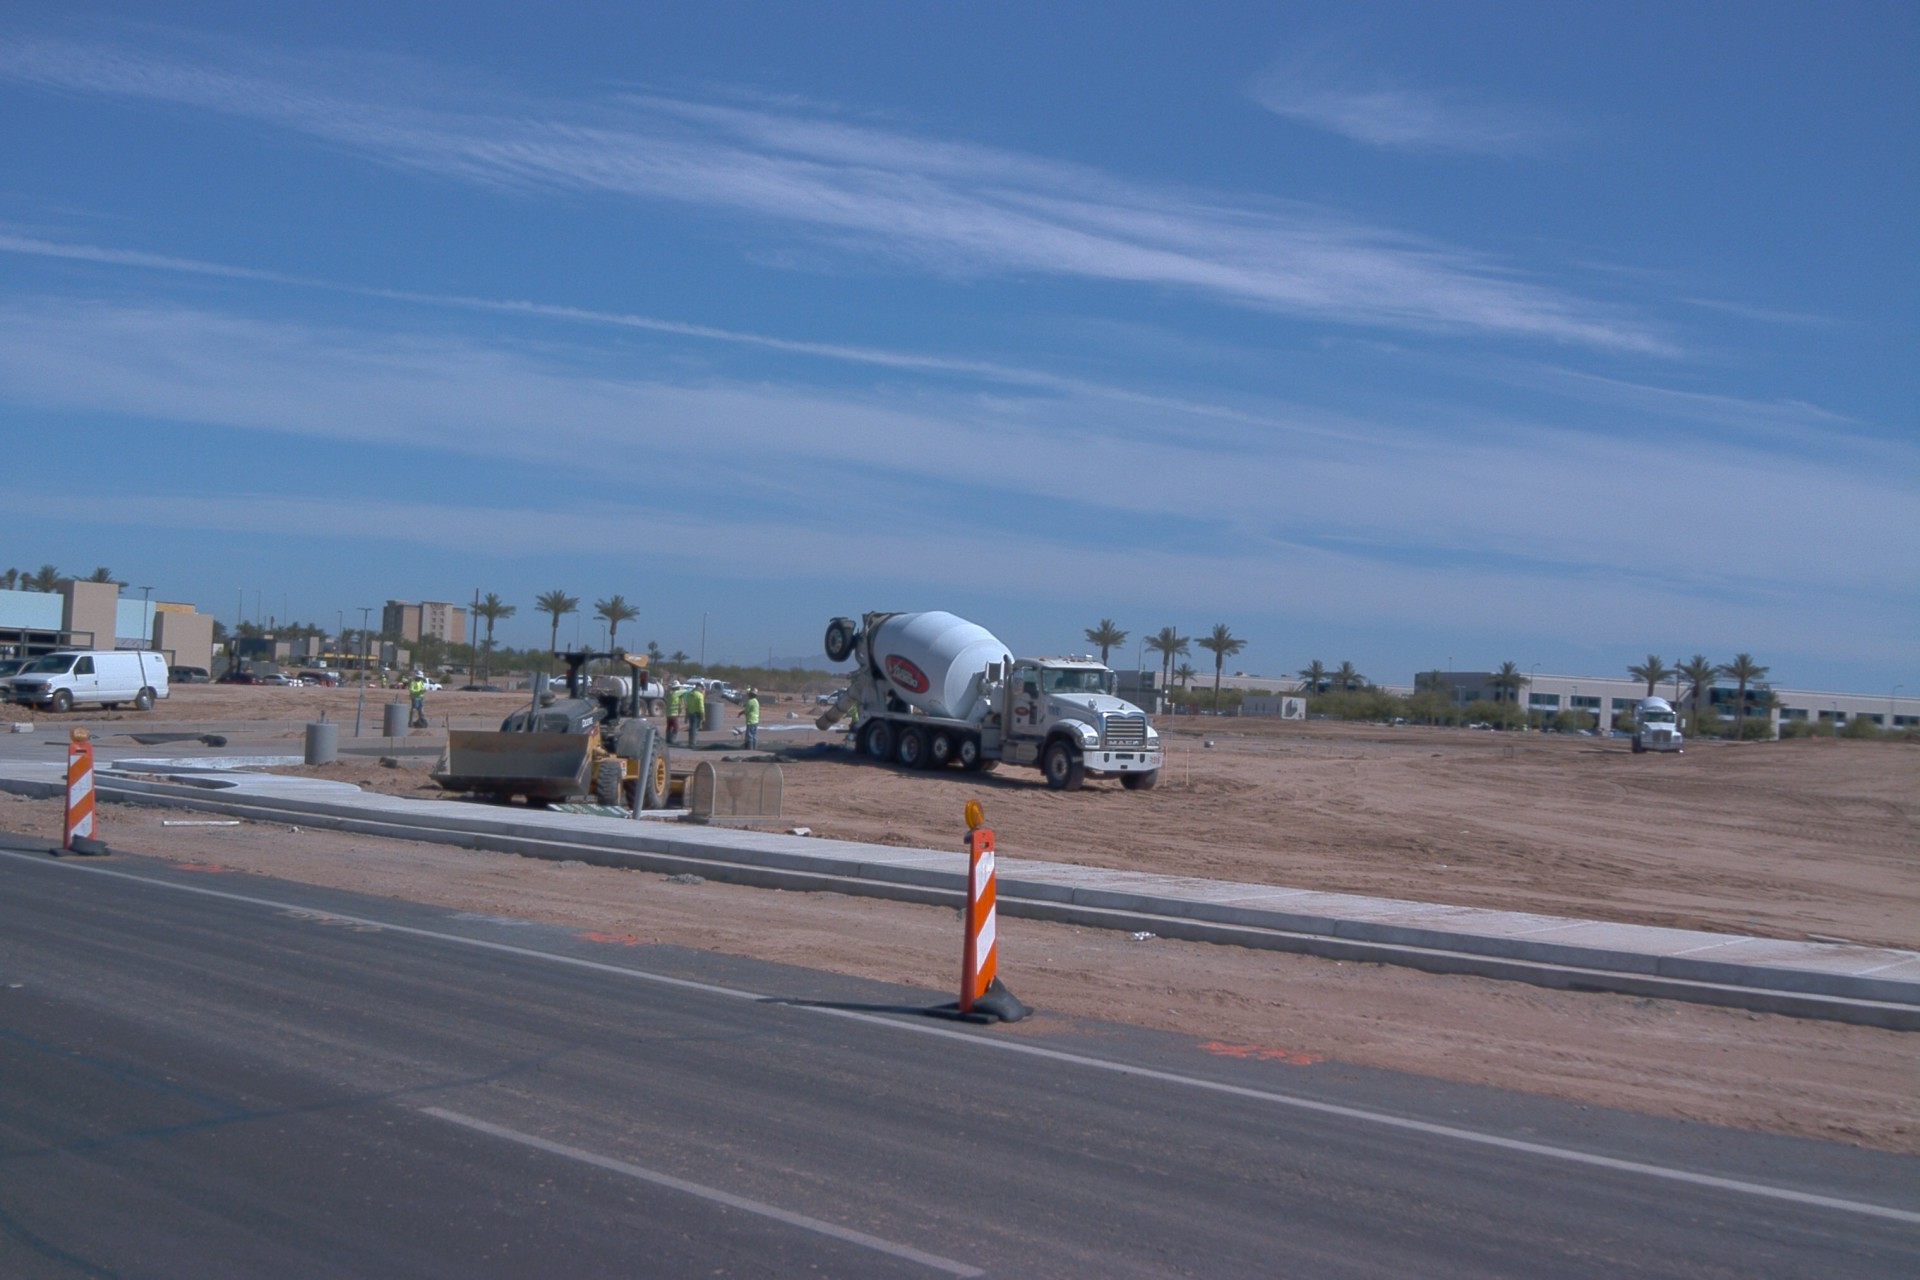TYPE_PEDESTRIAN: (665, 680, 691, 747), (684, 680, 708, 752), (738, 685, 762, 751), (406, 669, 429, 728), (839, 704, 860, 752), (378, 669, 389, 687), (799, 688, 808, 704), (400, 672, 408, 685)
TYPE_VEHICLE: (816, 607, 1165, 790), (424, 646, 697, 816), (7, 651, 172, 715), (1628, 694, 1686, 753), (594, 672, 669, 717), (0, 656, 42, 707), (687, 676, 743, 703), (207, 671, 271, 692), (162, 665, 211, 689), (295, 673, 340, 690), (549, 674, 591, 692), (578, 675, 604, 698), (261, 675, 304, 688), (815, 690, 840, 707), (415, 677, 441, 691), (459, 684, 508, 691), (2, 646, 20, 659), (310, 661, 329, 669)
